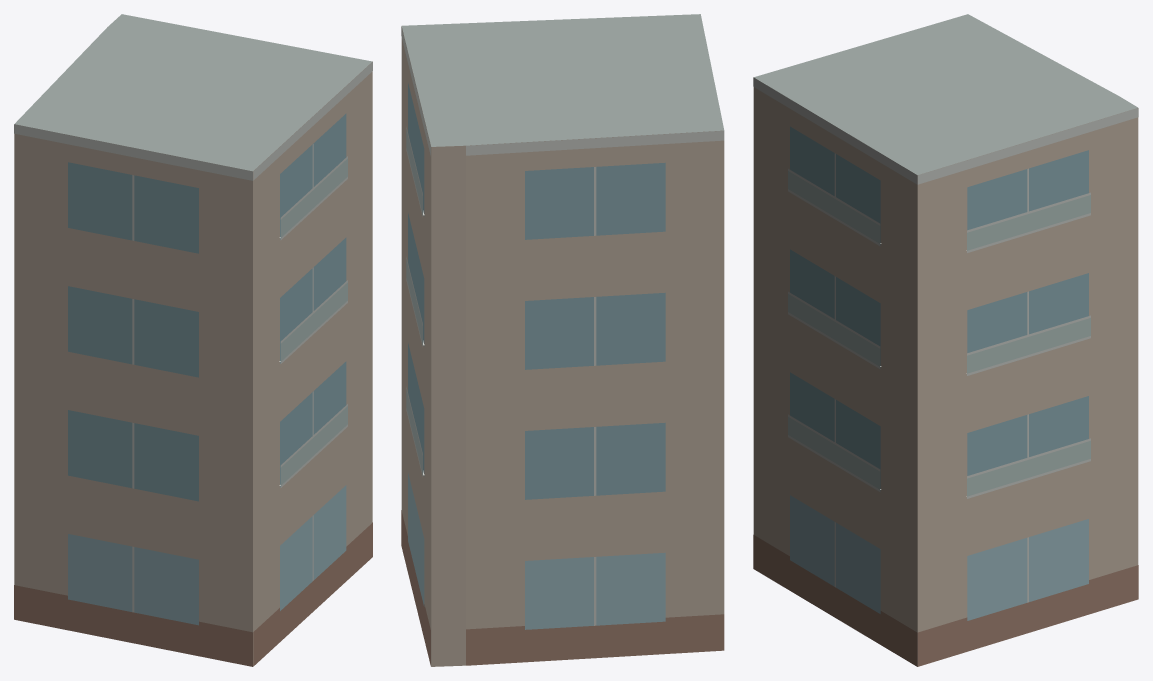
File: survey-upis-32970281.glb
The picture shows the model from 3 angles, left to right: view 1: azimuth 30°, elevation 25°; view 2: azimuth 150°, elevation 25°; view 3: azimuth 270°, elevation 25°; orthographic projection. The views are drawn at different scales.
Parts seen in each view (by area): view 1: survey-upis-32970281.tmp; view 2: survey-upis-32970281.tmp; view 3: survey-upis-32970281.tmp.
Part boxes in pixels (bbox=[...]): survey-upis-32970281.tmp: bbox=[14, 14, 372, 666]; survey-upis-32970281.tmp: bbox=[401, 14, 724, 666]; survey-upis-32970281.tmp: bbox=[753, 14, 1138, 666].
Bounding box in the file's own units: 8.87 × 12.6 × 8.95.
